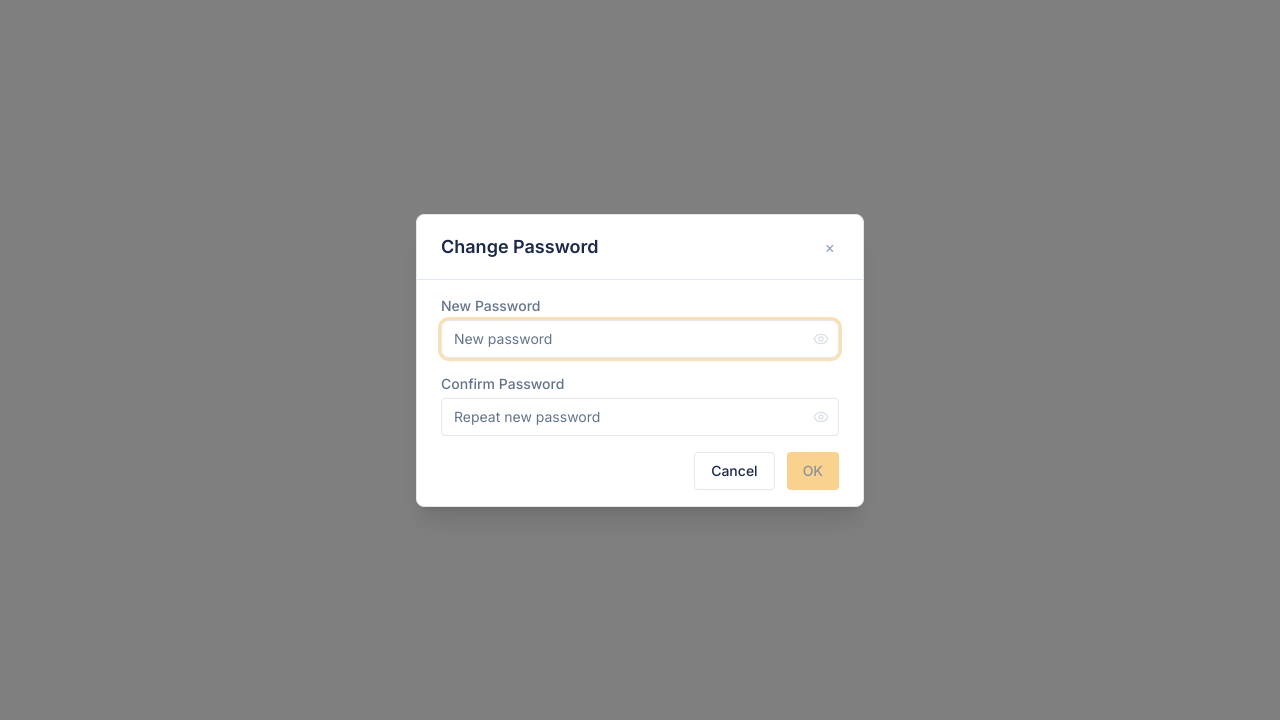
Test case: TopBarChangePasswordModal › shows a mismatch error, stays open, and sends nothing when fields differ
Type "hunter2" into the password field labelled "New Password". click: (640, 338)
box: [441,320,839,358]
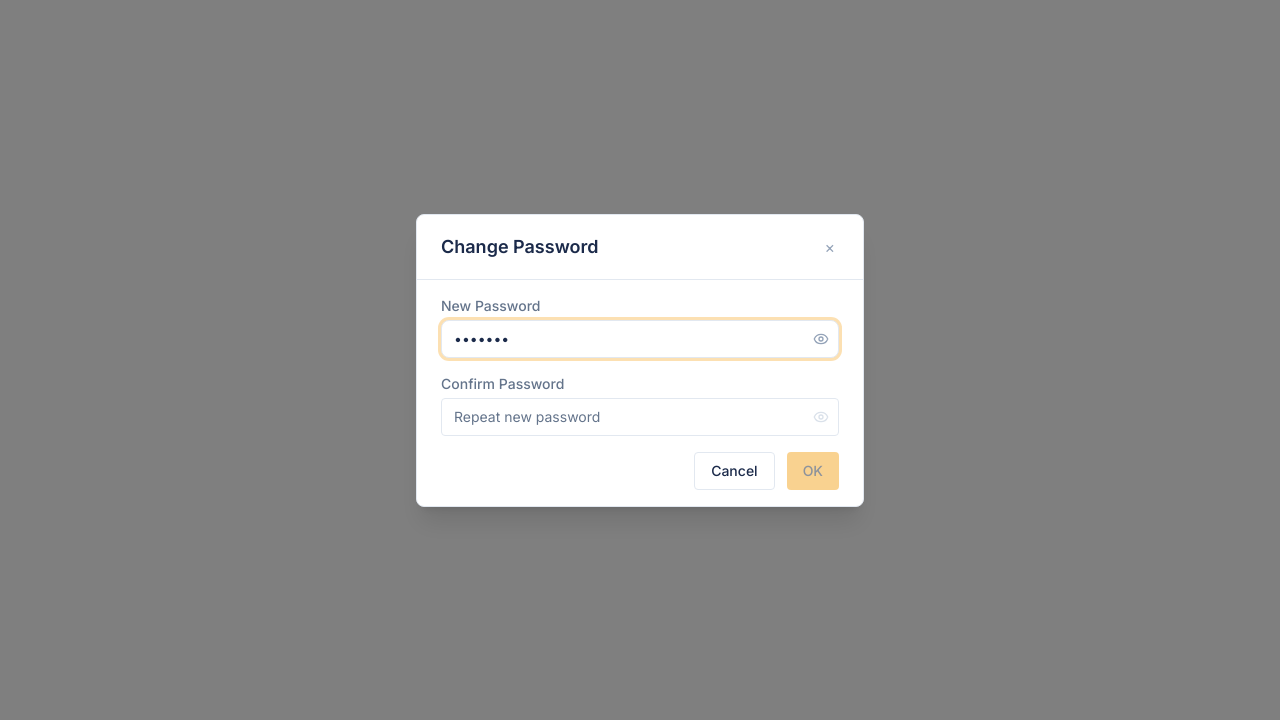
Type "hunter3" into the password field labelled "Confirm Password". click: (640, 416)
box: [441,398,839,436]
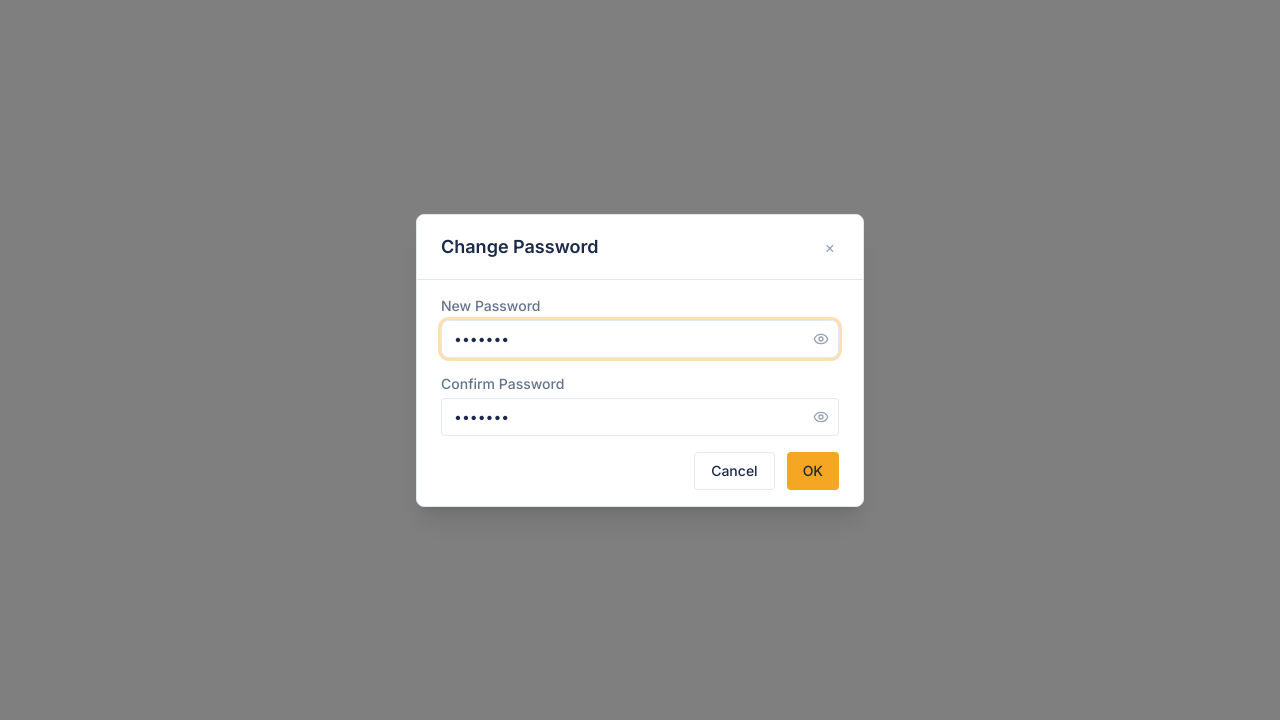
Click the button "OK". click: (813, 470)
box: [787,452,839,490]
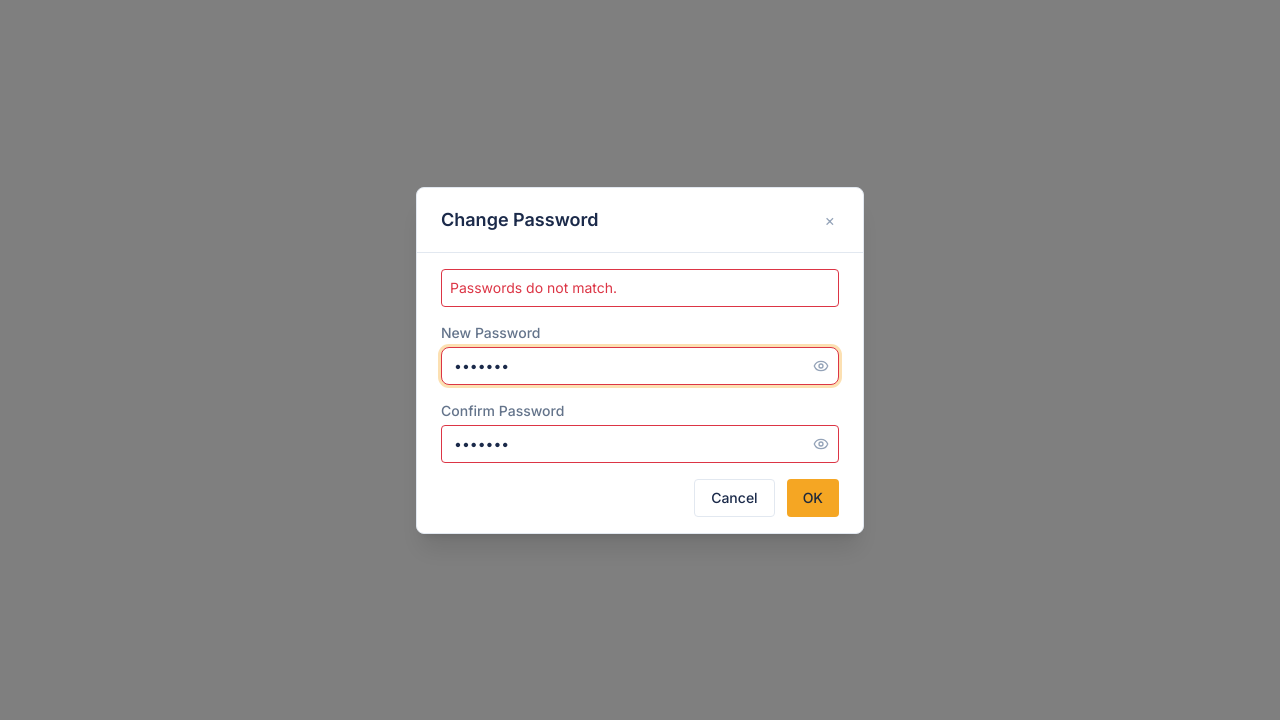
Expected: the message shows "do not match", [450,278,617,296]
Correcting one field clears the mismatch.
Type "hunter2" into the password field labelled "Confirm Password". click: (640, 444)
box: [441,424,839,462]
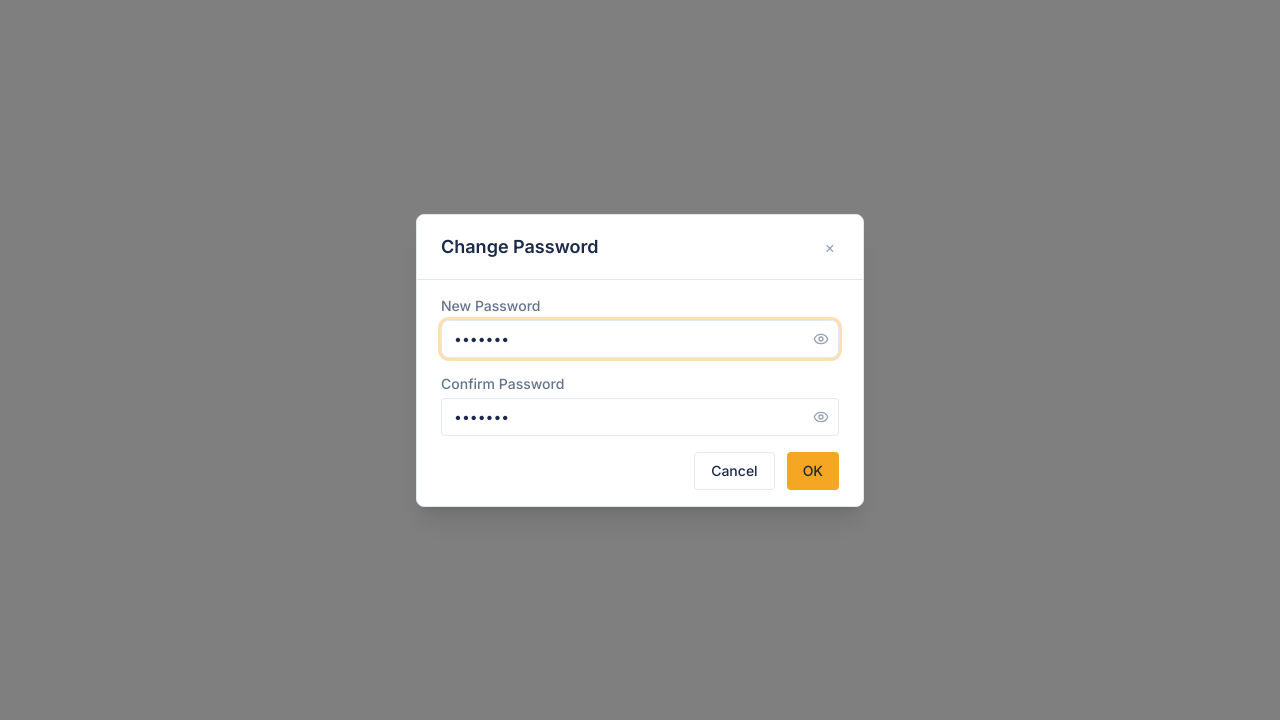
Expected: the message "Passwords do not match." is gone
